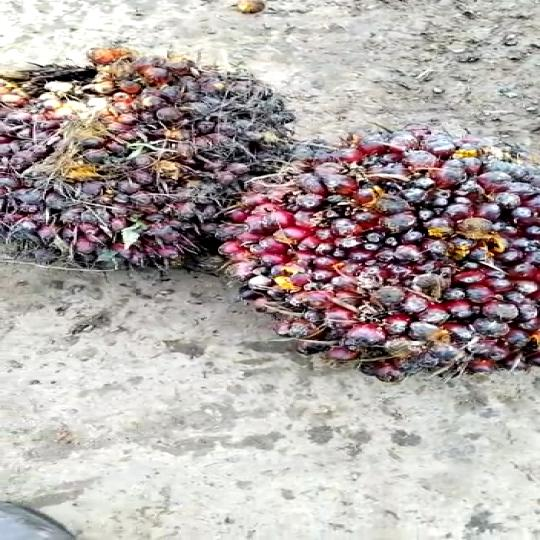kurang masak: (211, 128, 540, 374), (0, 41, 275, 271)
